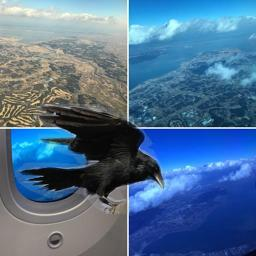Crow: (15, 104, 166, 214)
